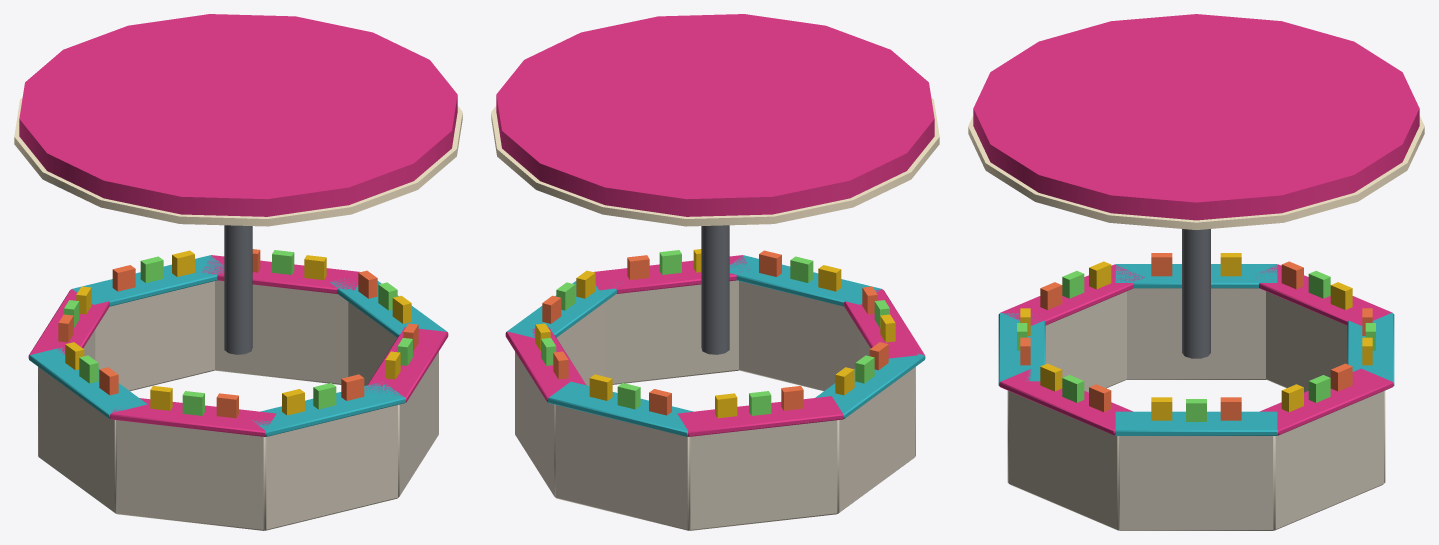
The model's file is kiosk_block.glb.
The picture shows the model from 3 angles, left to right: view 1: azimuth 30°, elevation 25°; view 2: azimuth 150°, elevation 25°; view 3: azimuth 270°, elevation 25°; orthographic projection.
Visible parts, largest first — view 1: kiosk; view 2: kiosk; view 3: kiosk.
Part boxes in pixels (bbox=[...]): kiosk: bbox=[14, 14, 462, 530]; kiosk: bbox=[491, 14, 939, 530]; kiosk: bbox=[968, 14, 1424, 530].
Bounding box in the file's own units: 4.4 × 3.65 × 4.4.
